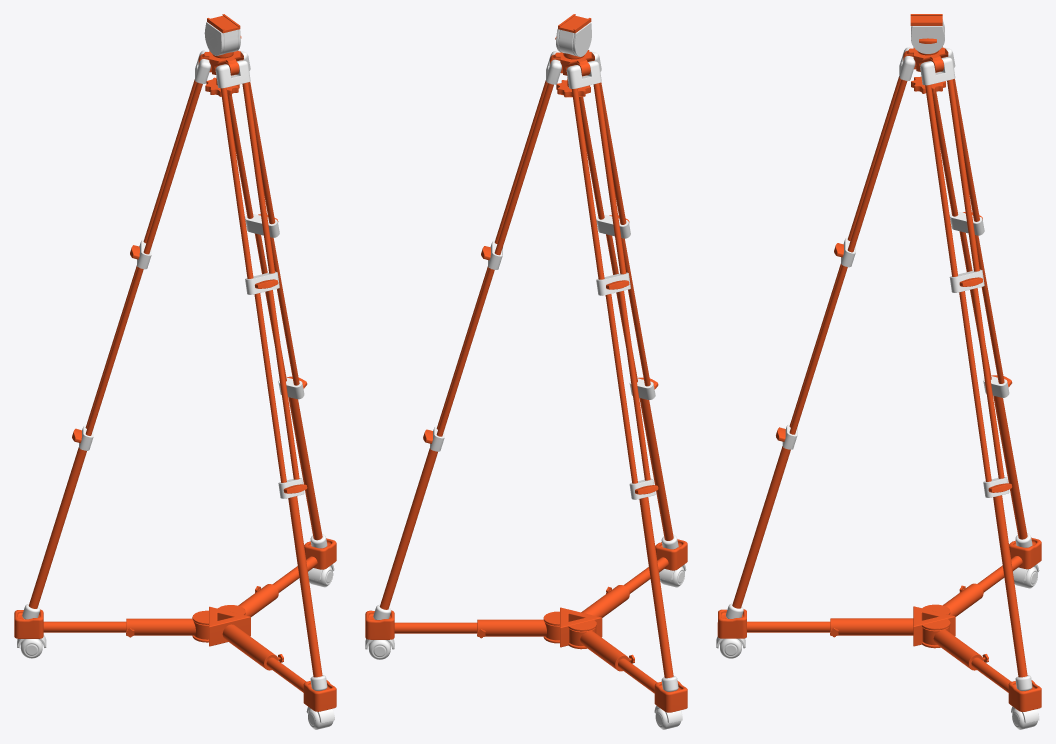
File: camera stand.fbx
The picture shows the model from 3 angles, left to right: view 1: azimuth 30°, elevation 25°; view 2: azimuth 150°, elevation 25°; view 3: azimuth 270°, elevation 25°; orthographic projection.
Parts seen in each view (by area): view 1: Circle.004; view 2: Circle.004; view 3: Circle.004.
Boxes of the visible parts, bbox=[...] form: Circle.004: bbox=[14, 14, 336, 729]; Circle.004: bbox=[365, 14, 687, 729]; Circle.004: bbox=[716, 14, 1041, 729].
Size of the model in its own units: 0.7635 by 1.44 by 0.6673.
